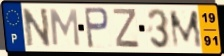3: (145, 8, 172, 51)
M: (167, 9, 205, 50), (49, 8, 82, 48)
N: (21, 7, 53, 48)
P: (83, 6, 111, 50)
Z: (112, 7, 141, 50)
